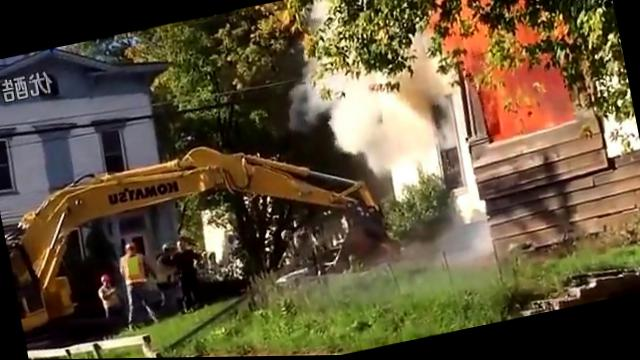fire: (474, 52, 572, 144), (460, 25, 494, 72)
